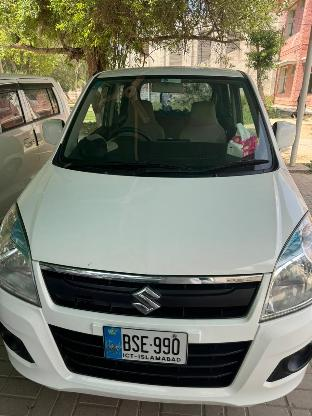car: (0, 58, 312, 416)
